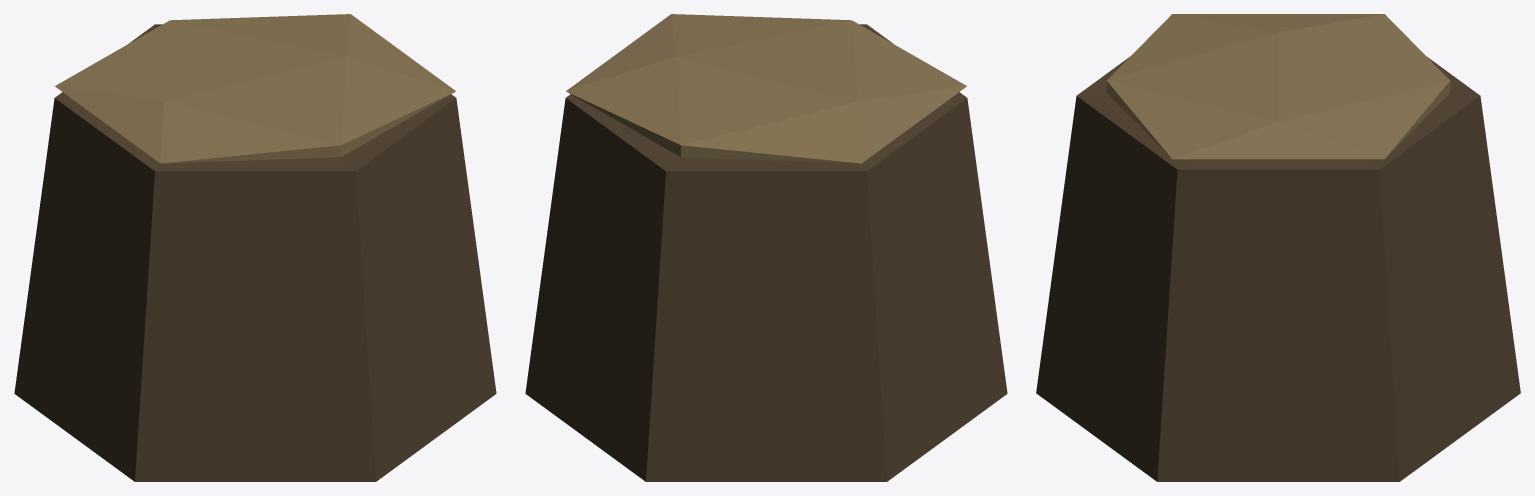
File: tree_stump.glb
The picture shows the model from 3 angles, left to right: view 1: azimuth 30°, elevation 25°; view 2: azimuth 150°, elevation 25°; view 3: azimuth 270°, elevation 25°; orthographic projection.
Visible parts, largest first — view 1: city-details/tree_stump; view 2: city-details/tree_stump; view 3: city-details/tree_stump.
Part boxes in pixels (x1=…): city-details/tree_stump: x1=14, y1=14, x2=496, y2=481; city-details/tree_stump: x1=525, y1=14, x2=1007, y2=481; city-details/tree_stump: x1=1036, y1=14, x2=1520, y2=481.
Bounding box in the file's own units: 0.8314 × 0.6913 × 0.96.
